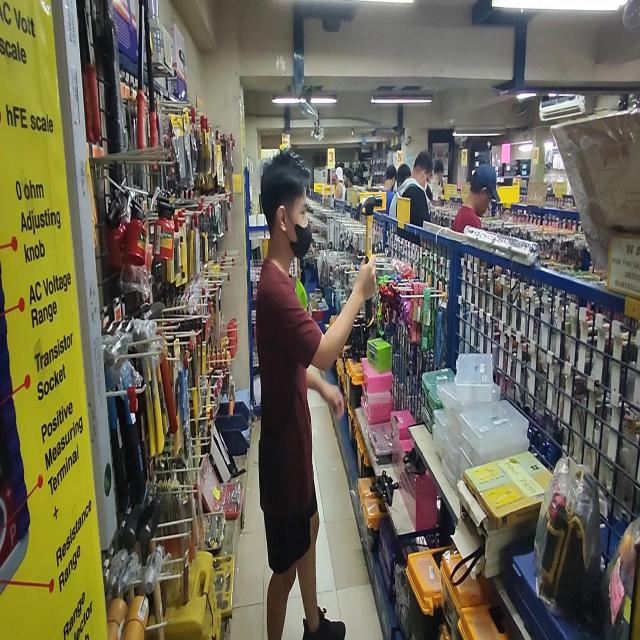hammer: (357, 195, 382, 328)
